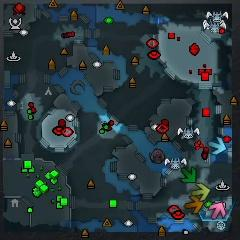x1: (209, 203, 225, 219)
x2: (193, 182, 210, 200)
x3: (208, 136, 226, 155)
x4: (181, 166, 197, 183)
x5: (185, 195, 203, 213)
